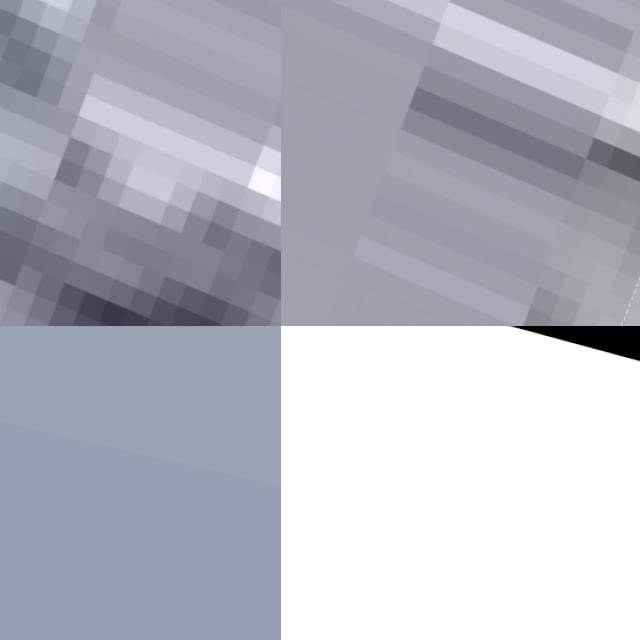0: (281, 0, 640, 326), (0, 0, 281, 326)
drone: (281, 326, 640, 640)
